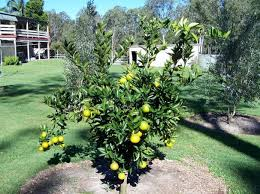orange: (138, 120, 149, 130), (142, 103, 151, 112)
